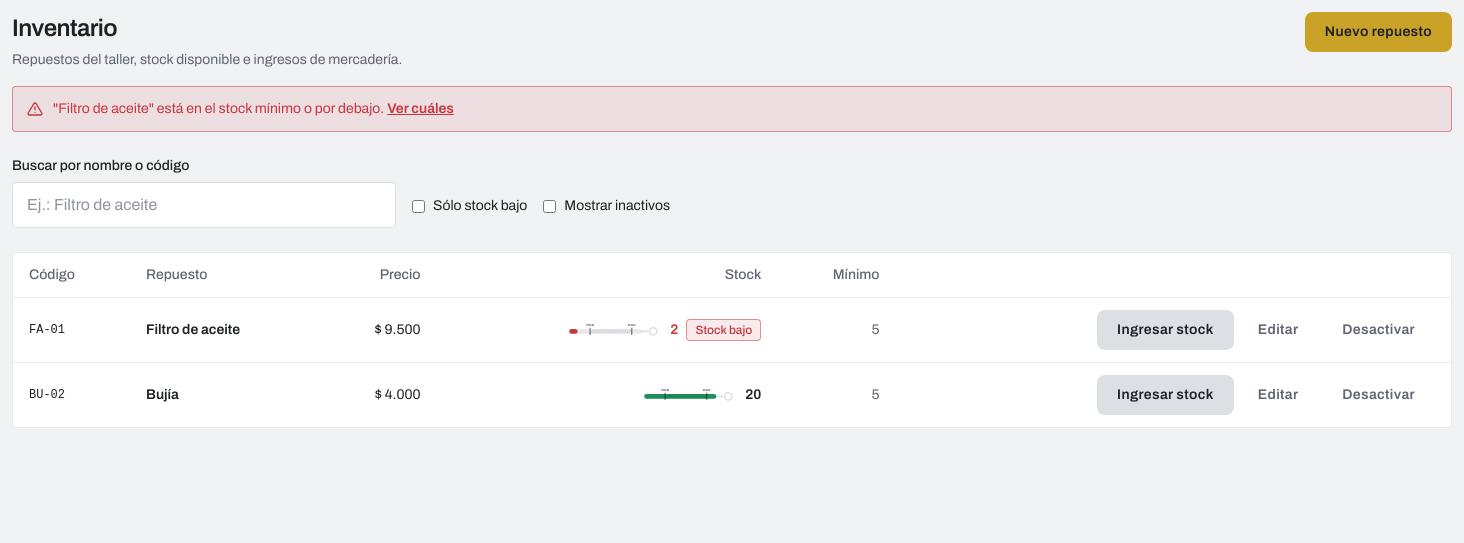
Test case: Inventario › "Ver cuáles" y la búsqueda filtran del lado del cliente con la lista completa
The image size is (1464, 543).
Expected: the table is shown, 13,253 -> 1451,427
Click the button "Ver cuáles". click: (421, 109)
box: 387,99 -> 454,119
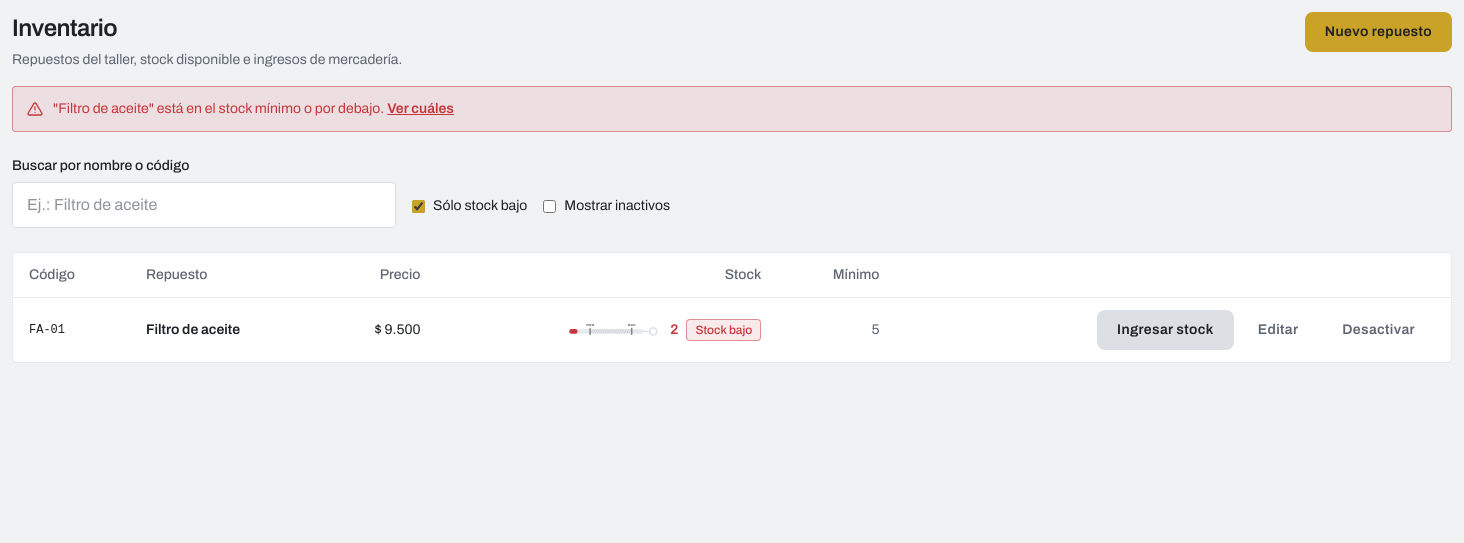
Result: the text "Bujía" is gone
Result: the checkbox labelled "Sólo stock bajo" is checked
Click the checkbox labelled "Sólo stock bajo". click: (418, 206)
box: 412,200 -> 425,212
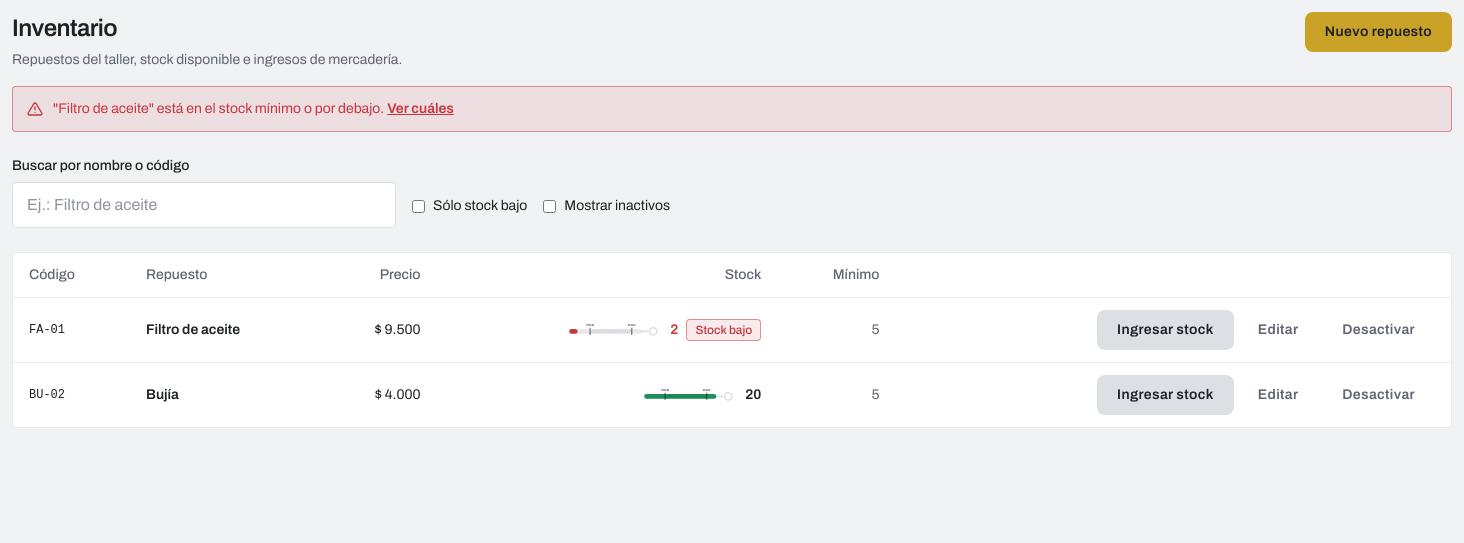
Type "bu-02" into the search field labelled "Buscar por nombre o código". click: (204, 205)
box: 12,182 -> 396,228
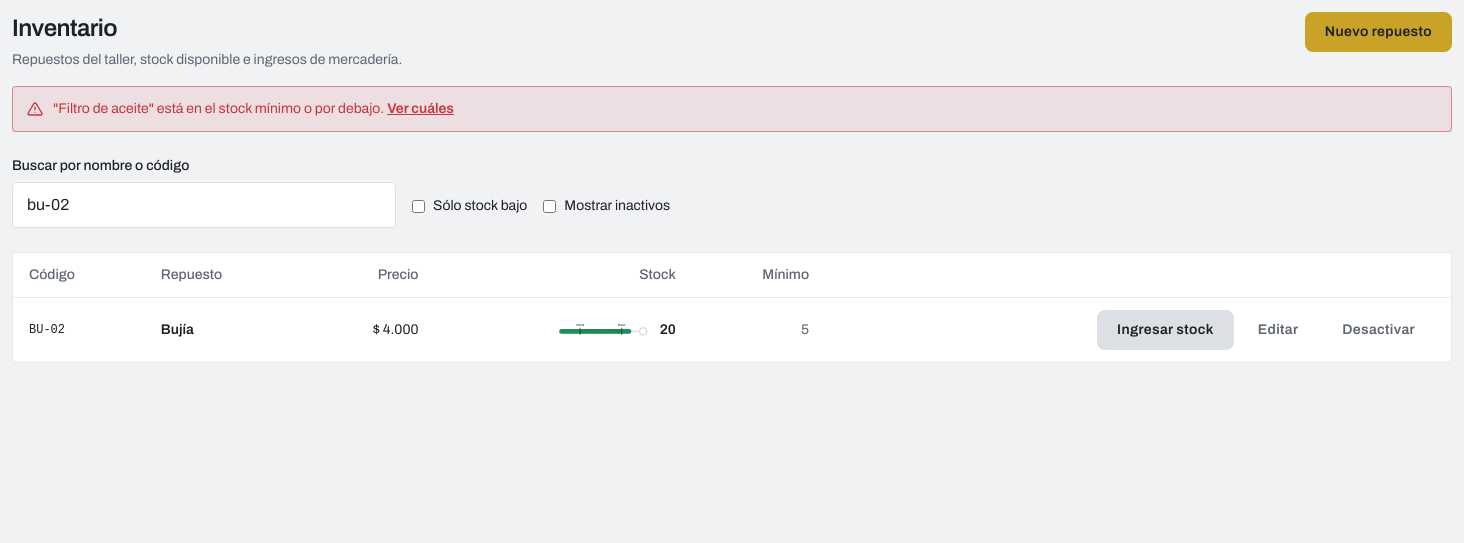
Result: the text "Bujía" is shown at 161,322 -> 194,337
Replace the text in the search field labelled "Buscar por nombre o código" with "zzz". click: (204, 205)
box: 12,182 -> 396,228
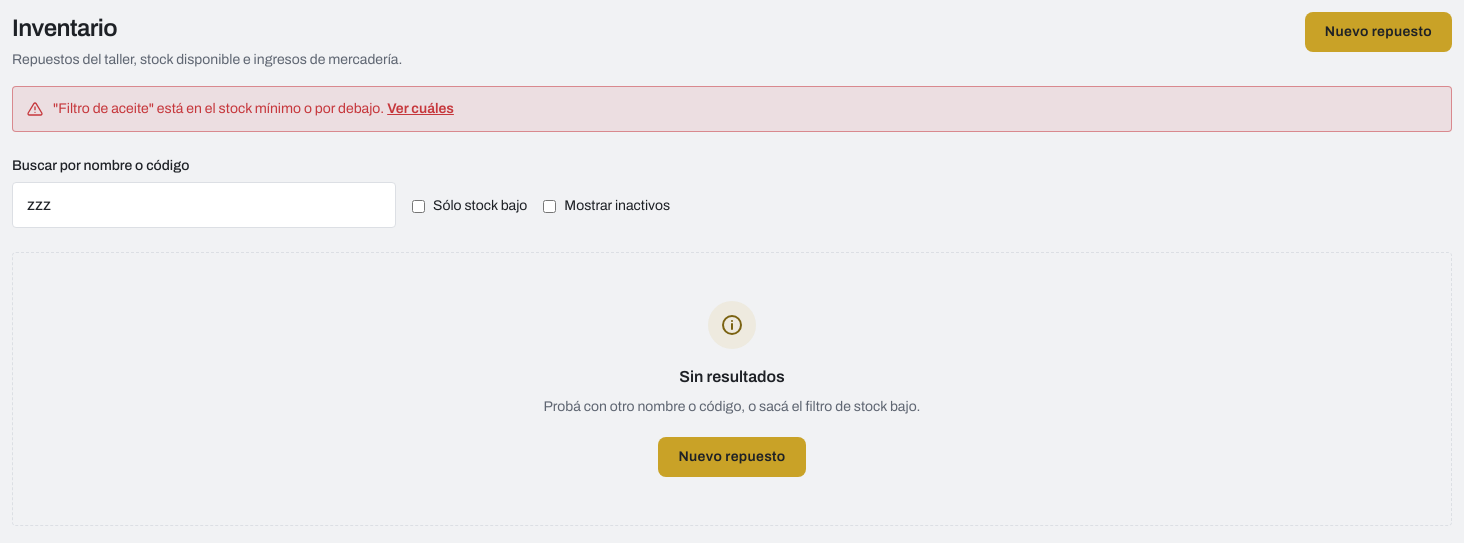
Result: the heading "Sin resultados" is shown at 679,368 -> 785,385
